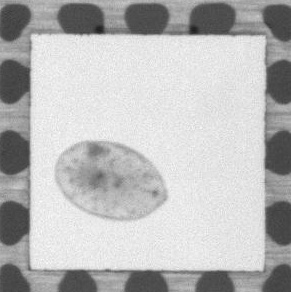DIE_INK: (50, 138, 167, 220)
